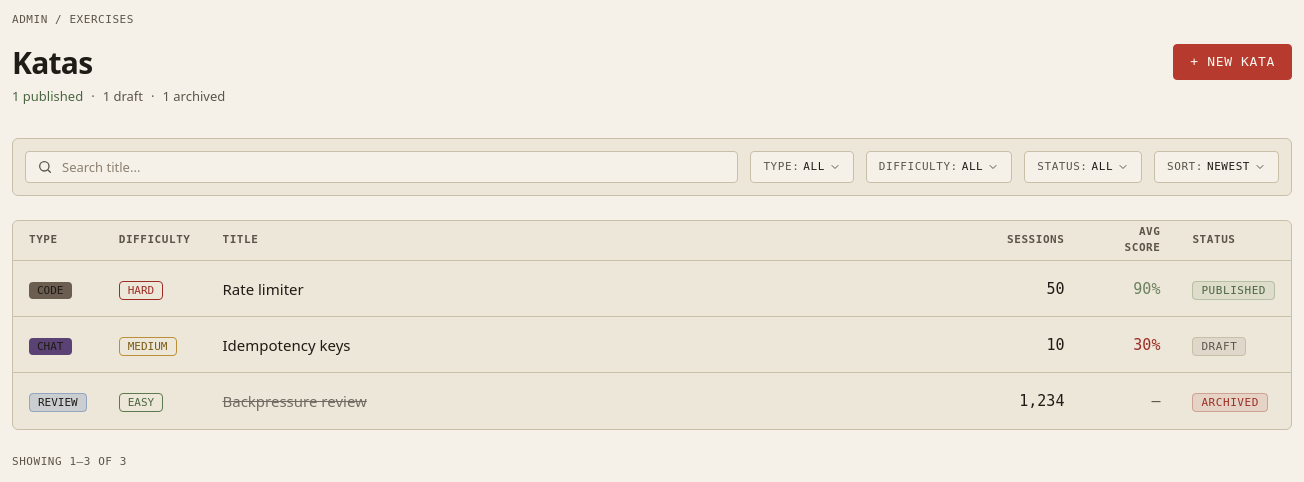
Test: AdminKatasPage › filters by status via the Status select
The width and height of the screenshot is (1304, 482).
Check: the link "Rate limiter" is shown, box [222,278,304,298]
Select "DRAFT" in the dropdown labelled "Status" at {"x": 1083, "y": 166}, box [1024,150,1142,182]
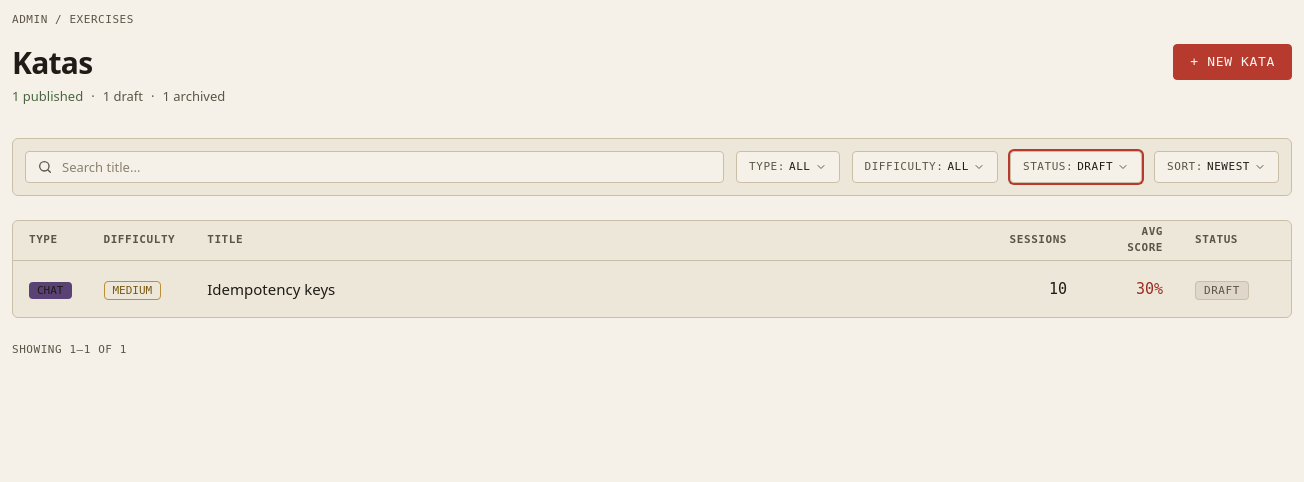
Check: the link "Idempotency keys" is shown, box [207,279,335,299]
Check: the link "Rate limiter" is gone
Check: the link "Backpressure review" is gone
